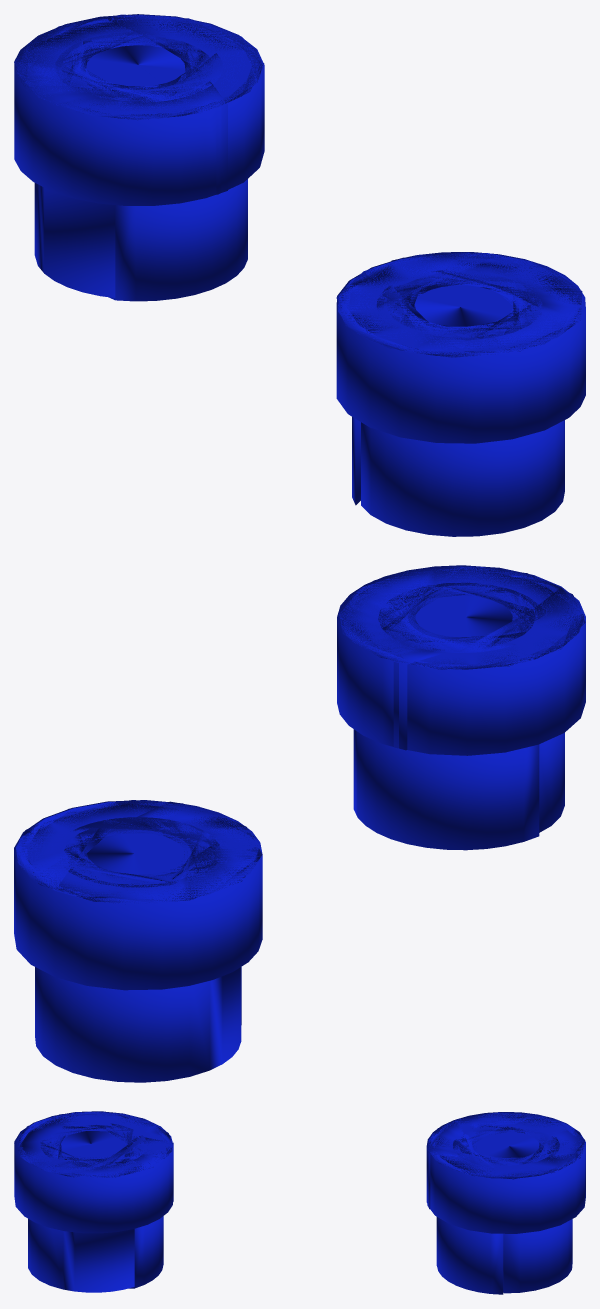
File: tuyeau_element_000044.obj
3 views of the same model, one above another, from view 1: azimuth 30°, elevation 25°; view 2: azimuth 150°, elevation 25°; view 3: azimuth 270°, elevation 25° (orthographic). The views are drawn at different scales.
Parts seen in each view (by area): view 1: tuyeau1_Cube.014, tuyeau2_Cube.017; view 2: tuyeau2_Cube.017, tuyeau1_Cube.014; view 3: tuyeau1_Cube.014, tuyeau2_Cube.017.
Part boxes in pixels (<box>): tuyeau1_Cube.014: <box>14,14,264,301</box>; tuyeau2_Cube.017: <box>336,252,585,536</box>; tuyeau2_Cube.017: <box>337,565,585,850</box>; tuyeau1_Cube.014: <box>14,800,262,1082</box>; tuyeau1_Cube.014: <box>426,1112,585,1294</box>; tuyeau2_Cube.017: <box>14,1111,173,1292</box>.
Size of the model in its own units: 3552 by 2917 by 12623.
